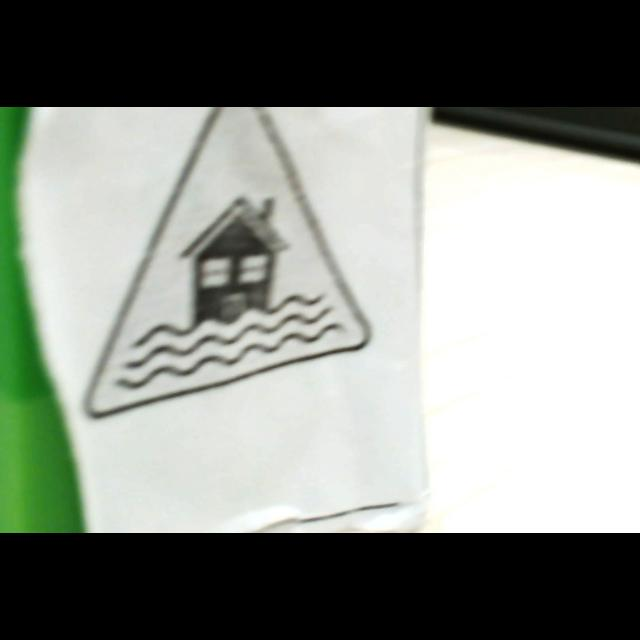Tsunami: (87, 107, 371, 418)
